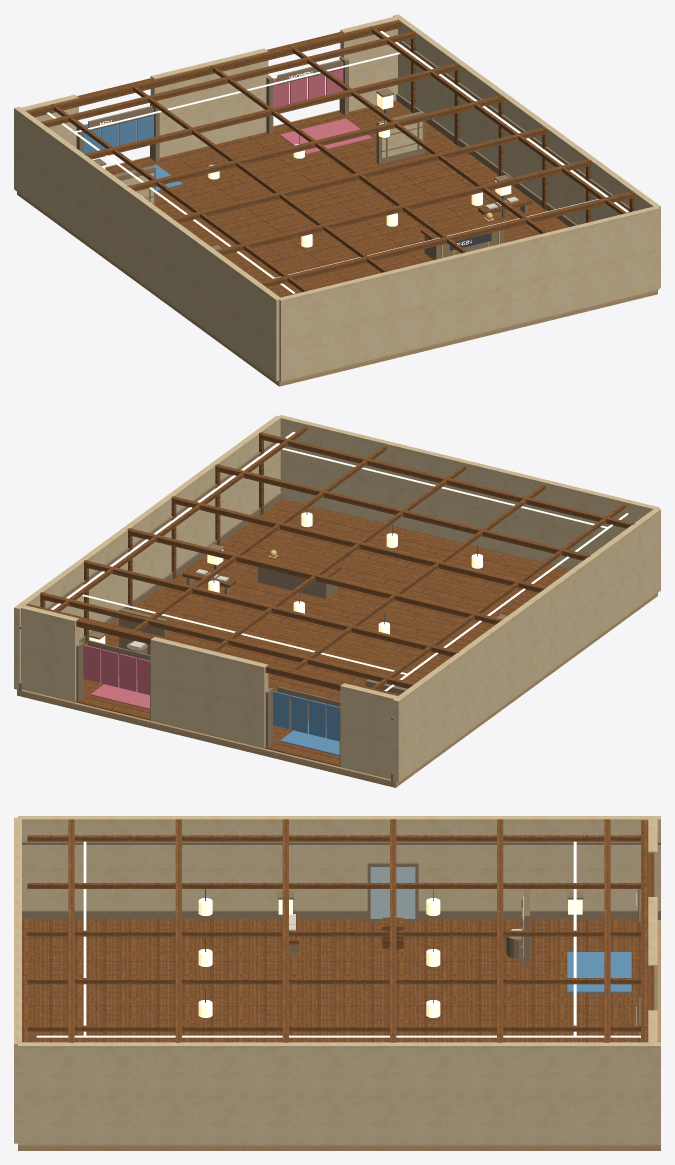
File: onsen_lobby.glb
3 renders of one model, top to bottom at view 1: azimuth 30°, elevation 25°; view 2: azimuth 150°, elevation 25°; view 3: azimuth 270°, elevation 25°, orthographic. The views are drawn at different scales.
Visible parts, largest first — view 1: front wall, side wall -10, side wall 10, rear wall 0, floor plank -3, floor plank -1, floor plank 1, floor plank 3, rear beam, floor plank 7, floor plank 5, stone floor (+27 smaller); view 2: side wall -10, front wall, side wall 10, rear wall 0, floor plank -3, floor plank -1, floor plank 1, rear wall 8.5, floor plank 3, floor plank 7, rear wall -8.5, floor plank 5 (+32 smaller); view 3: side wall 10, side wall -10, floor plank -3, floor plank -7, floor plank -1, floor plank -5, floor plank -9, floor plank 1, side baseboard -10, stone floor, coffer long beam 0, coffer long beam 4.2 (+20 smaller).
Part boxes in pixels (x1,y1,x2,y2): front wall: (278, 206, 659, 381); side wall -10: (14, 106, 279, 381); side wall 10: (393, 14, 660, 287); rear wall 0: (150, 48, 268, 157); floor plank -3: (132, 154, 346, 290); floor plank -1: (174, 146, 381, 281); floor plank 1: (216, 136, 421, 271); floor plank 3: (249, 124, 433, 262); rear beam: (26, 20, 400, 117); floor plank 7: (322, 108, 535, 242); floor plank 5: (284, 115, 463, 228); stone floor: (17, 110, 657, 386); side wall -10: (393, 508, 660, 782); front wall: (278, 415, 659, 569); side wall 10: (14, 415, 280, 689); rear wall 0: (150, 637, 268, 748); floor plank -3: (265, 553, 542, 752); floor plank -1: (271, 545, 504, 710); floor plank 1: (259, 535, 462, 687); rear wall 8.5: (18, 604, 78, 702); floor plank 3: (132, 525, 428, 720); floor plank 7: (75, 507, 352, 706); rear wall -8.5: (340, 683, 398, 779); floor plank 5: (94, 516, 390, 715); side wall 10: (18, 1042, 660, 1145); side wall -10: (18, 816, 660, 910); floor plank -3: (22, 984, 640, 1006); floor plank -7: (22, 939, 640, 961); floor plank -1: (22, 1007, 640, 1029); floor plank -5: (22, 961, 640, 984); floor plank -9: (22, 919, 640, 938); floor plank 1: (22, 1029, 640, 1042); side baseboard -10: (22, 910, 660, 919); stone floor: (18, 920, 660, 1150); coffer long beam 0: (27, 930, 648, 936); coffer long beam 4.2: (27, 978, 651, 984).
Size of the model in its own units: 20.3 by 4.4 by 24.15.
Materials: 13 (3 with a texture image).
